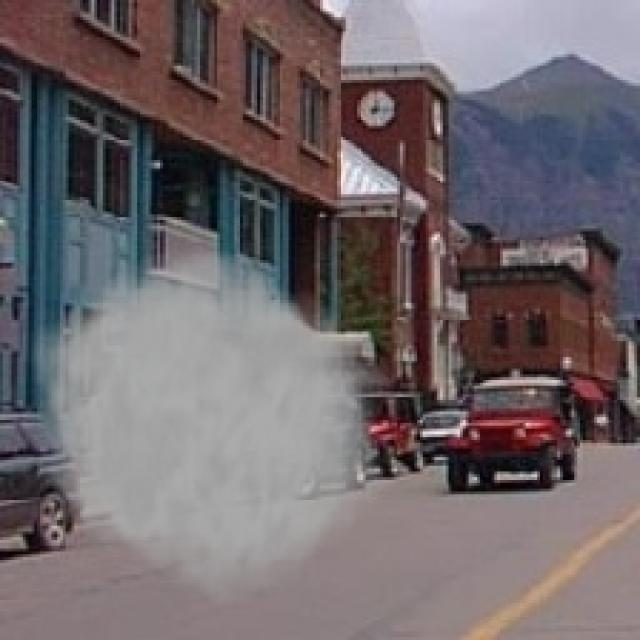smoke: (17, 235, 389, 614)
